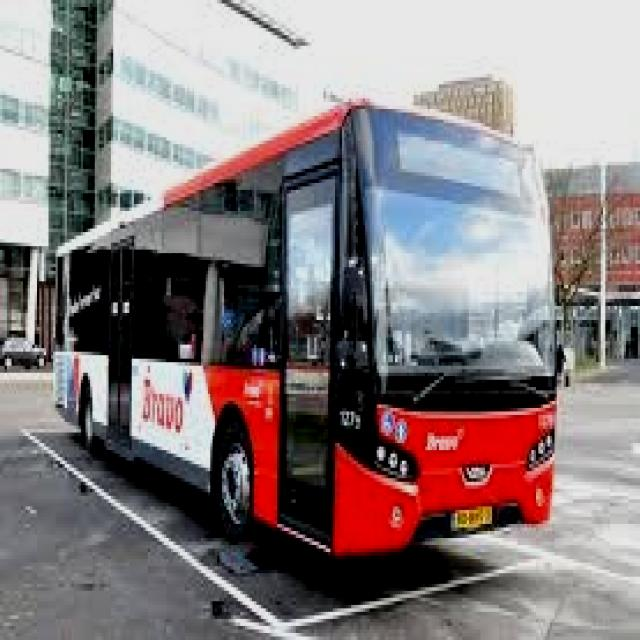bus: (39, 68, 579, 597)
